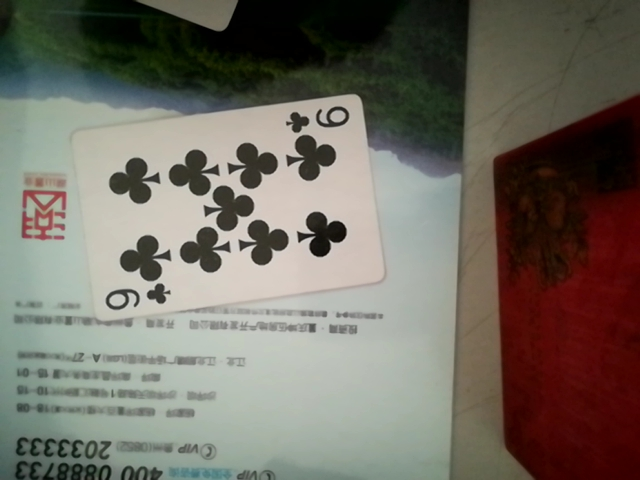mh 9: (69, 89, 387, 323)
